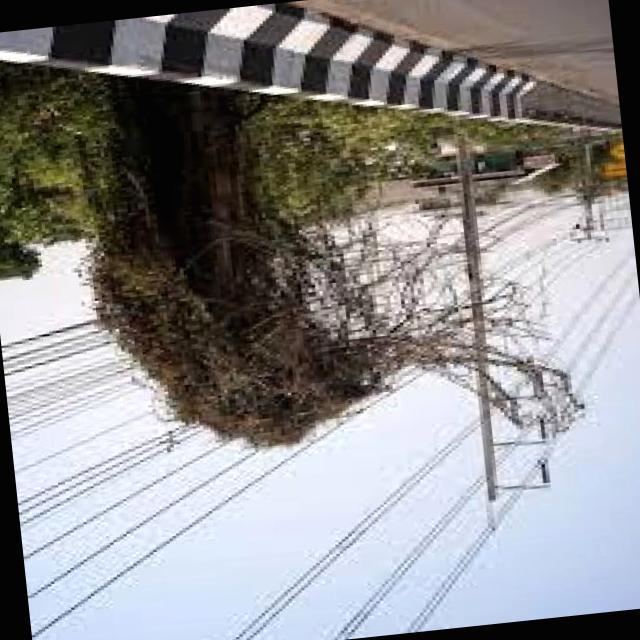critical vegetation: (51, 248, 640, 579)
